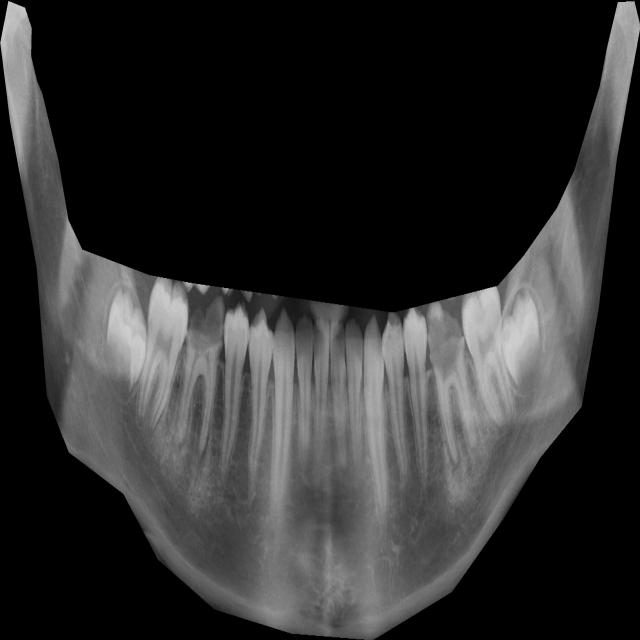mandibula: (0, 1, 640, 640)
